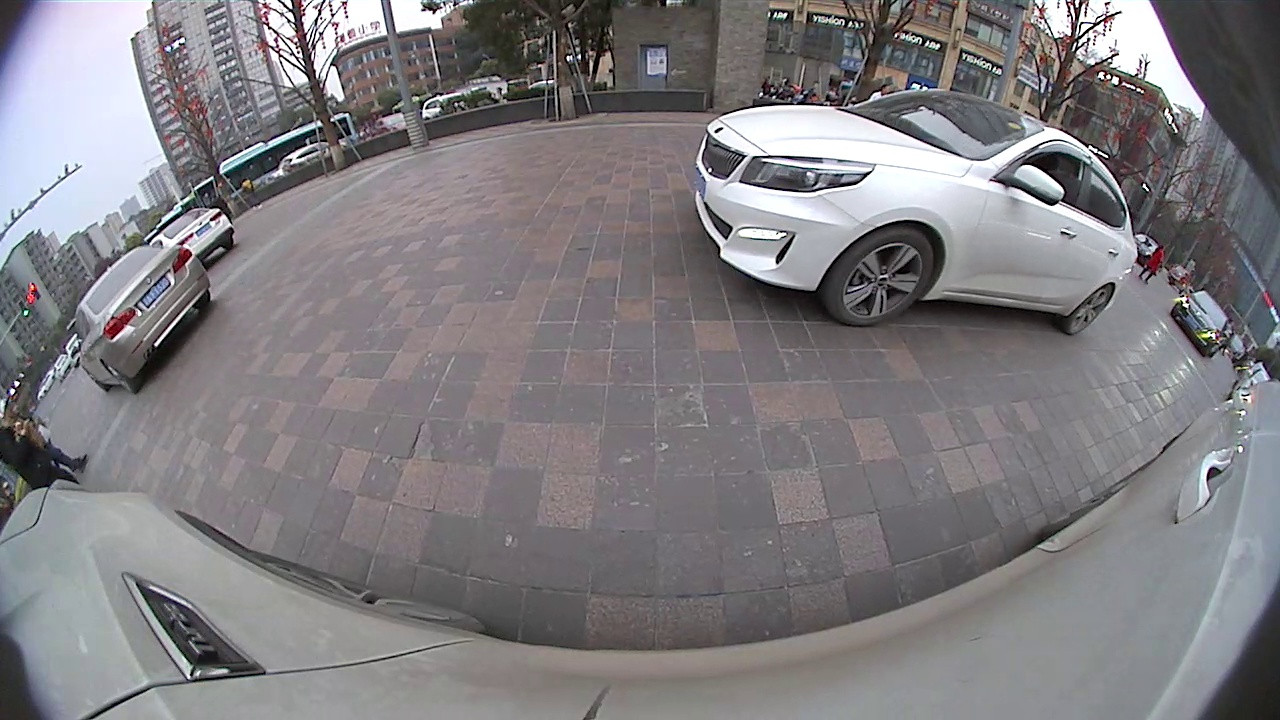bus: (176, 111, 354, 211)
car: (694, 87, 1140, 336), (73, 242, 213, 393), (144, 205, 236, 271), (1169, 288, 1236, 360)
front: (823, 223, 938, 330)
person: (1, 422, 75, 468), (1151, 245, 1164, 289)
rear: (1062, 283, 1114, 338)
